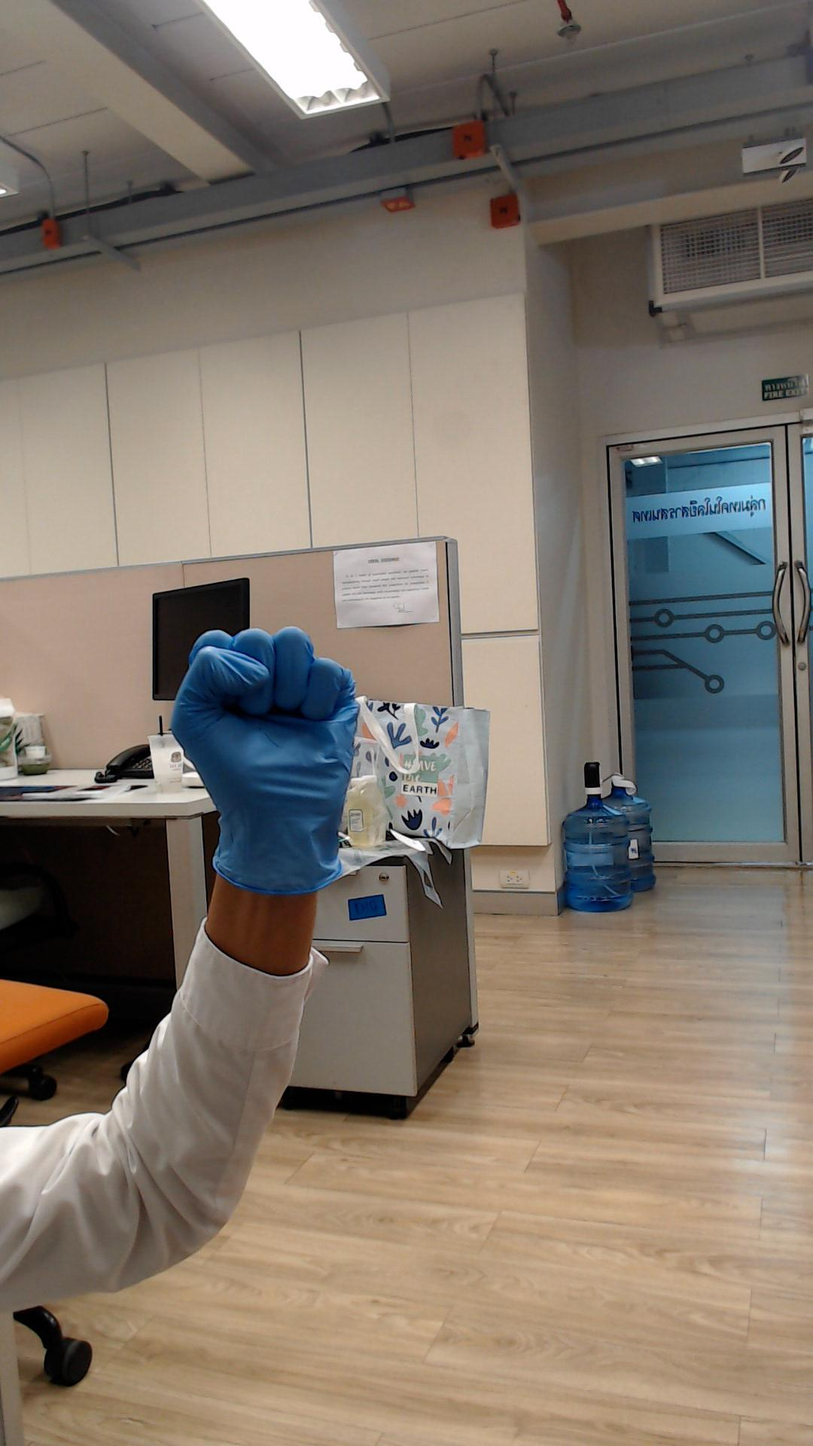gloves: (167, 600, 368, 828)
